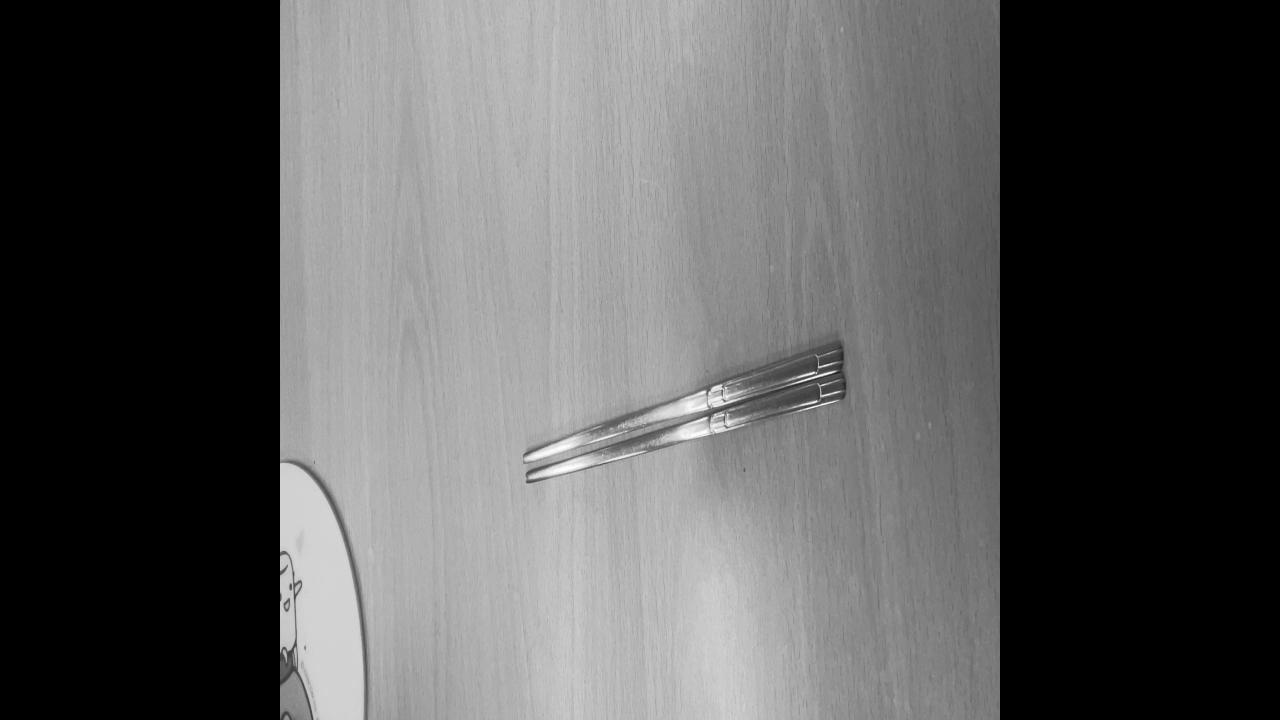chopstick: (520, 335, 854, 493)
